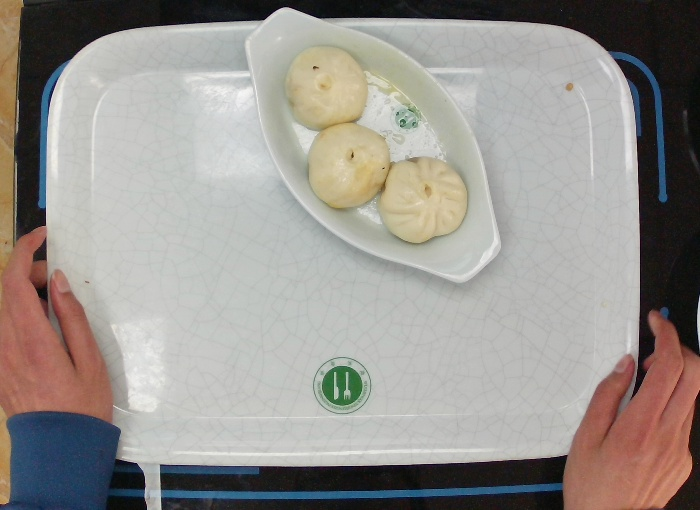JYsf-Yu_Pan: (234, 5, 516, 290)
